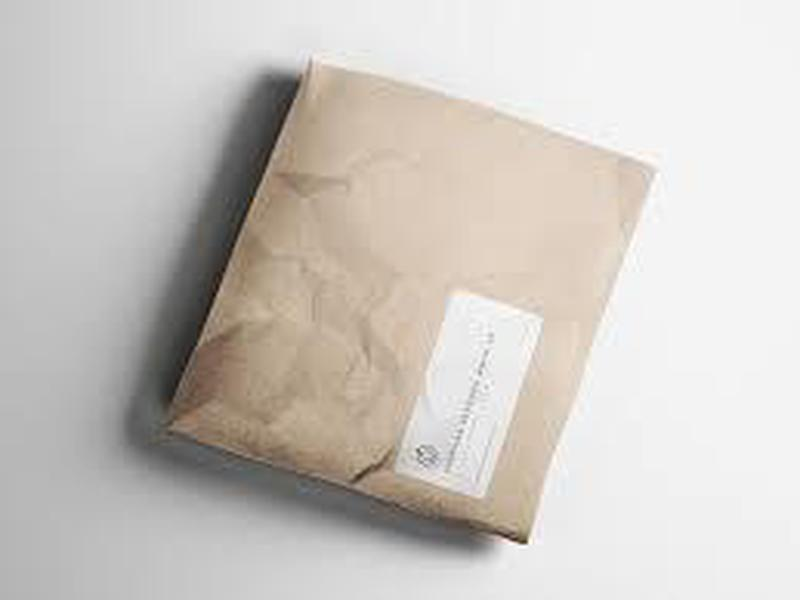package: (143, 44, 667, 561)
